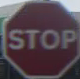Stop: (5, 3, 76, 70)
